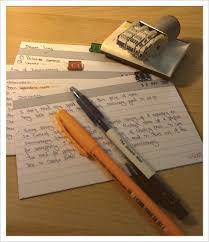Note: (12, 79, 203, 198), (6, 68, 151, 160), (12, 41, 163, 99)
